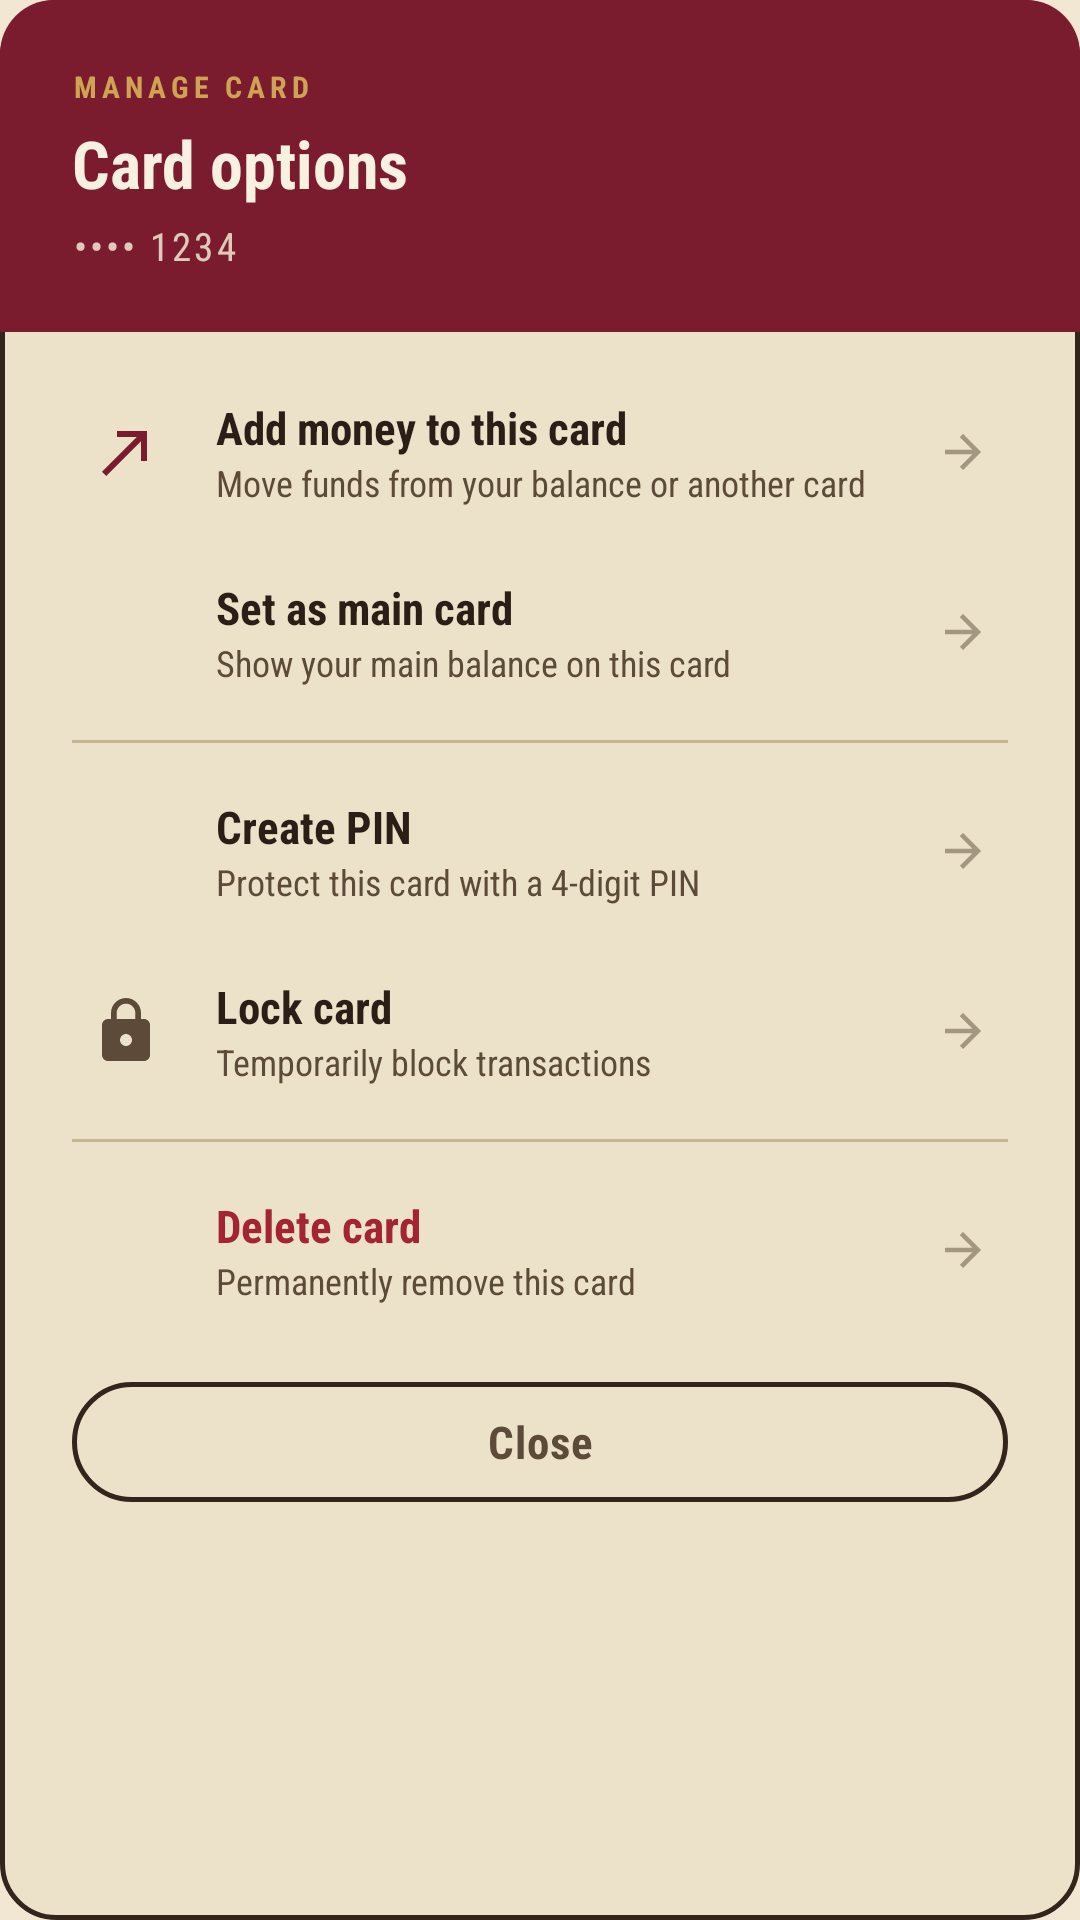

Locate icon controls on the screen. Image size 1080w x 1920h, boxes as (left=x1, top=y1, right=x2, bottom=y2).
send transfer: (left=102, top=431, right=147, bottom=476)
